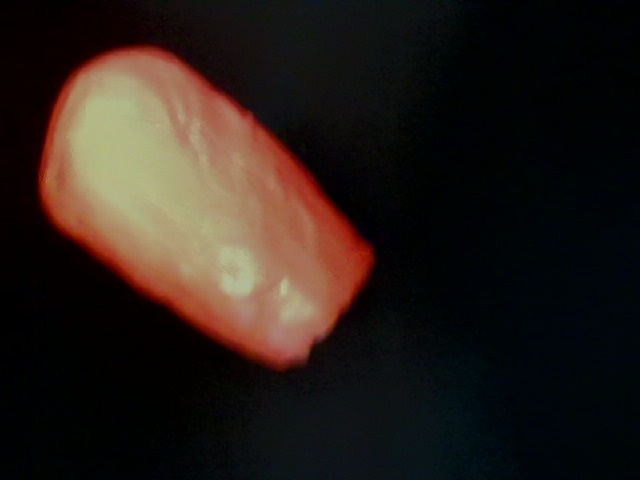YHLJ: (300, 295, 425, 353)
